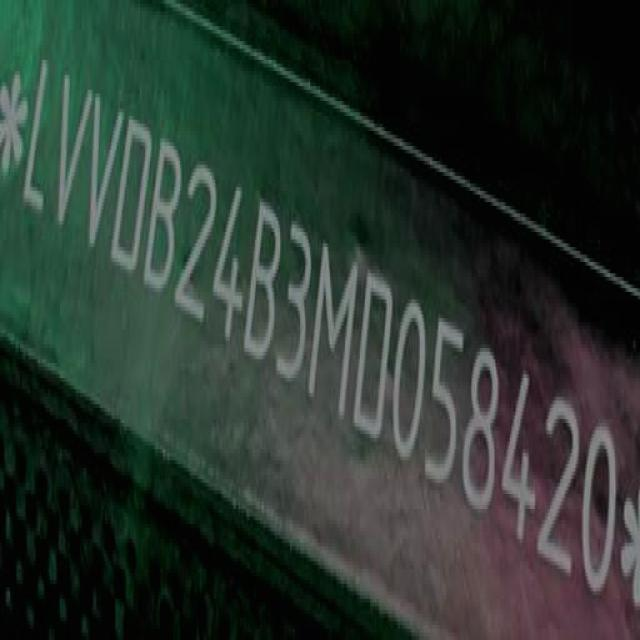0: (388, 285, 434, 474), (580, 408, 624, 605)
2: (537, 384, 587, 587), (176, 147, 223, 333)
3: (279, 205, 321, 402)
4: (498, 353, 546, 564), (208, 169, 253, 352)
5: (424, 304, 468, 502)
8: (458, 332, 504, 528)
B: (244, 190, 289, 376), (141, 126, 184, 302)
D: (352, 256, 398, 455), (112, 109, 157, 286)
L: (19, 55, 61, 222)
M: (308, 222, 364, 436)
V: (81, 82, 127, 266), (50, 65, 96, 243)
